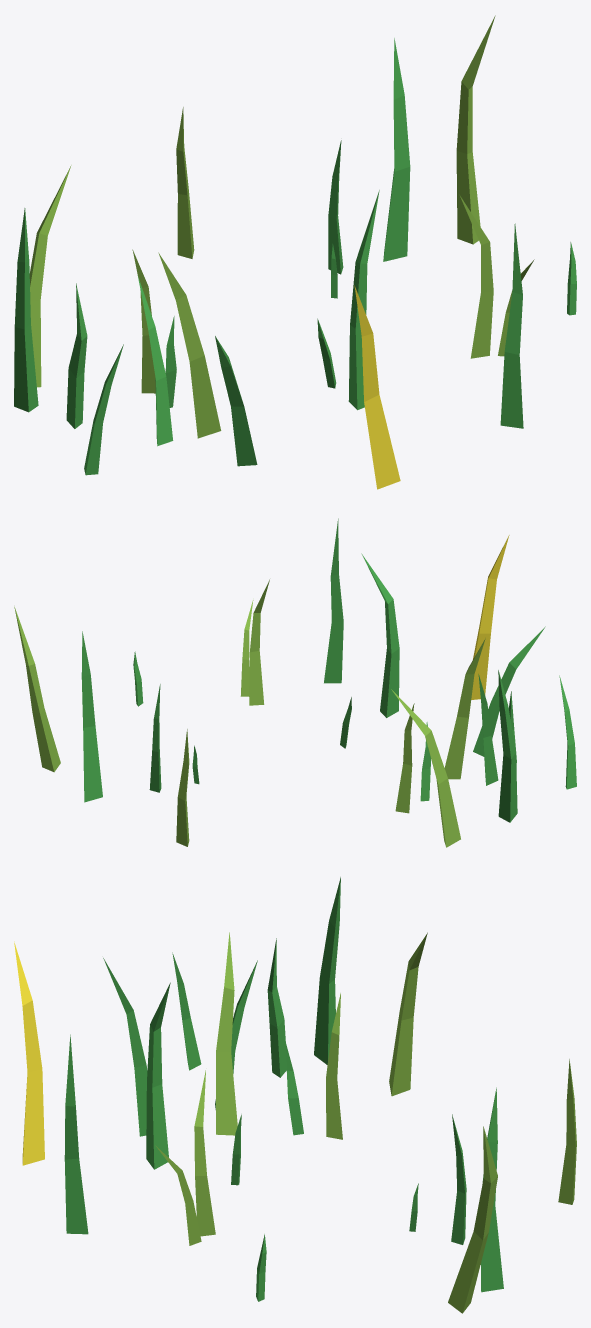
File: grass_yellow_1.glb
3 renders of one model, top to bottom at view 1: azimuth 30°, elevation 25°; view 2: azimuth 150°, elevation 25°; view 3: azimuth 270°, elevation 25°, orthographic. The views are drawn at different scales.
Visible parts, largest first — view 1: group1146485798; view 2: group1146485798; view 3: group1146485798.
Boxes of the visible parts, x1,y1,x2,y2 form: group1146485798: [14, 15, 576, 489]; group1146485798: [14, 518, 576, 847]; group1146485798: [14, 877, 576, 1313].
Bounding box in the file's own units: 0.6854 × 0.2727 × 0.6212.
